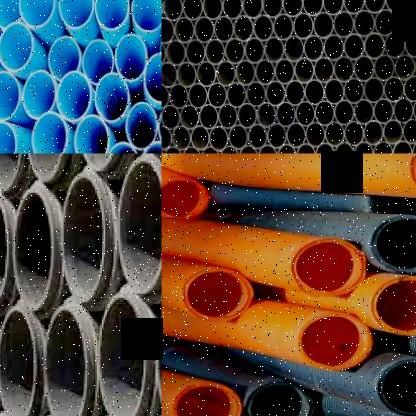pipe: (57, 172, 113, 304), (93, 291, 151, 416), (115, 158, 162, 297), (44, 306, 92, 416), (13, 188, 54, 312), (0, 304, 41, 416), (298, 313, 373, 371), (291, 238, 365, 296), (182, 267, 253, 321), (369, 215, 416, 273), (371, 275, 416, 335), (244, 380, 314, 416), (170, 381, 241, 416), (376, 357, 416, 415), (162, 180, 209, 219), (56, 70, 91, 122), (94, 73, 130, 122), (22, 70, 56, 120), (0, 21, 33, 71), (115, 33, 148, 82), (31, 111, 68, 154), (125, 102, 158, 150), (48, 35, 80, 82), (82, 38, 114, 85), (21, 153, 68, 183), (74, 114, 109, 154), (93, 0, 129, 30), (0, 190, 9, 310), (18, 0, 54, 28), (0, 71, 20, 121), (58, 0, 93, 28), (130, 0, 161, 31), (0, 153, 23, 194), (144, 52, 161, 103), (0, 0, 21, 30), (374, 8, 396, 36), (394, 53, 416, 81), (395, 7, 416, 35), (385, 31, 406, 59), (354, 54, 375, 82), (185, 38, 206, 66), (273, 13, 294, 41), (354, 9, 375, 37), (293, 12, 314, 39), (313, 11, 334, 38), (344, 33, 365, 60), (334, 55, 355, 82), (364, 32, 385, 59), (344, 77, 365, 104), (194, 16, 215, 43), (374, 54, 395, 81), (0, 121, 17, 154), (334, 10, 354, 38), (324, 33, 344, 61), (304, 34, 324, 62), (274, 57, 294, 85), (214, 15, 234, 43), (236, 58, 256, 86), (174, 16, 194, 44), (226, 37, 246, 65), (177, 60, 197, 88), (253, 15, 274, 41), (207, 82, 228, 108), (228, 124, 249, 150), (284, 35, 304, 62), (324, 78, 344, 105), (264, 36, 284, 63), (234, 15, 254, 42), (315, 99, 335, 126), (255, 58, 275, 85), (196, 60, 216, 87), (166, 39, 186, 66), (188, 82, 208, 109), (238, 102, 258, 129), (227, 81, 247, 108), (199, 103, 219, 130), (314, 56, 334, 83), (205, 38, 225, 65), (275, 102, 296, 127), (393, 98, 414, 123), (244, 37, 264, 63), (294, 57, 314, 83), (216, 60, 236, 86), (334, 99, 354, 125), (364, 77, 384, 103), (246, 81, 266, 107), (384, 76, 404, 102), (286, 122, 306, 148), (384, 119, 404, 145), (364, 120, 384, 146), (304, 79, 324, 105), (168, 83, 188, 109), (266, 80, 286, 106), (218, 103, 238, 129), (256, 102, 276, 127), (286, 80, 306, 105), (354, 99, 374, 124), (374, 98, 394, 123), (344, 121, 364, 146), (296, 101, 316, 126), (306, 122, 326, 147), (267, 123, 287, 148), (248, 124, 268, 149), (180, 104, 200, 129), (191, 125, 210, 151), (324, 122, 344, 146), (209, 126, 229, 150), (162, 104, 180, 129), (162, 60, 178, 87), (172, 126, 190, 150), (182, 0, 203, 20), (162, 0, 183, 20), (105, 142, 139, 154), (203, 0, 223, 20), (222, 0, 242, 19), (242, 0, 262, 18), (282, 0, 303, 17), (262, 0, 282, 17), (403, 75, 416, 101), (403, 118, 416, 144), (302, 0, 323, 16), (162, 16, 174, 44), (405, 29, 416, 58), (323, 0, 344, 15), (364, 0, 386, 13), (344, 0, 364, 14), (372, 140, 392, 154), (393, 140, 412, 154), (385, 0, 407, 12), (353, 142, 374, 154), (315, 142, 335, 154), (296, 142, 316, 154), (334, 142, 354, 154), (277, 142, 297, 154), (162, 126, 172, 150), (161, 83, 170, 108), (258, 144, 278, 154), (240, 144, 258, 154), (219, 146, 239, 154), (182, 146, 201, 154), (201, 146, 220, 154), (164, 146, 182, 154), (406, 0, 416, 11), (162, 39, 166, 66), (412, 96, 416, 122)
